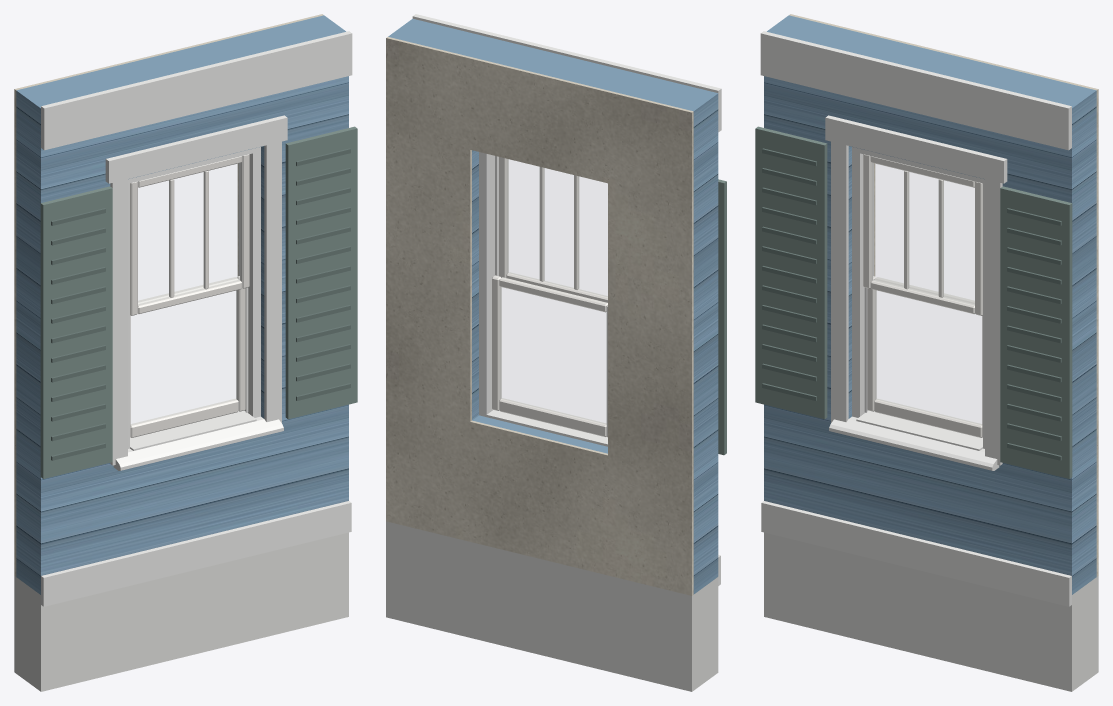
File: wall_e_window.glb
The picture shows the model from 3 angles, left to right: view 1: azimuth 30°, elevation 25°; view 2: azimuth 150°, elevation 25°; view 3: azimuth 330°, elevation 25°; orthographic projection.
Visible parts, largest first — view 1: wall_e_window_siding_e, wall_e_window_trim, wall_e_window_shutter, wall_e_window_lattice, folha_glass, wall_e_window_glass, wall_e_window_shutter_dark, wall_e_window_sash, wall_e_window_frame, folha_sash, wall_e_window_plaster; view 2: wall_e_window_plaster, wall_e_window_lattice, wall_e_window_siding_e, folha_glass, wall_e_window_glass, folha_sash, wall_e_window_frame, wall_e_window_sash, wall_e_window_trim, wall_e_window_shutter; view 3: wall_e_window_siding_e, wall_e_window_trim, wall_e_window_shutter, wall_e_window_lattice, folha_glass, wall_e_window_glass, wall_e_window_shutter_dark, wall_e_window_sash, wall_e_window_frame, folha_sash, wall_e_window_plaster.
Part boxes in pixels (box(x1,y1,x2,y2)): wall_e_window_siding_e: box(16, 15, 348, 594); wall_e_window_trim: box(41, 31, 352, 606); wall_e_window_shutter: box(40, 126, 357, 478); wall_e_window_lattice: box(14, 532, 348, 691); folha_glass: box(131, 291, 236, 424); wall_e_window_glass: box(138, 163, 240, 304); wall_e_window_shutter_dark: box(51, 148, 350, 460); wall_e_window_sash: box(130, 154, 249, 315); wall_e_window_frame: box(128, 147, 260, 448); folha_sash: box(130, 276, 245, 437); wall_e_window_plaster: box(14, 14, 323, 576); wall_e_window_plaster: box(386, 37, 693, 595); wall_e_window_lattice: box(386, 521, 718, 691); wall_e_window_siding_e: box(388, 18, 718, 594); folha_glass: box(501, 287, 605, 423); wall_e_window_glass: box(508, 160, 607, 296); folha_sash: box(492, 275, 607, 437); wall_e_window_frame: box(479, 152, 498, 416); wall_e_window_sash: box(499, 157, 607, 302); wall_e_window_trim: box(412, 14, 721, 585); wall_e_window_shutter: box(718, 179, 726, 455); wall_e_window_siding_e: box(764, 15, 1096, 594); wall_e_window_trim: box(760, 31, 1071, 606); wall_e_window_shutter: box(755, 126, 1072, 478); wall_e_window_lattice: box(764, 532, 1098, 691); folha_glass: box(876, 291, 981, 424); wall_e_window_glass: box(872, 163, 974, 304); wall_e_window_shutter_dark: box(762, 148, 1061, 460); wall_e_window_sash: box(863, 154, 982, 315); wall_e_window_frame: box(852, 147, 984, 448); folha_sash: box(867, 276, 982, 437); wall_e_window_plaster: box(789, 14, 1098, 576).
Size of the model in its own units: 2.04 by 3.63 by 0.38.
9 materials, 2 textured.
